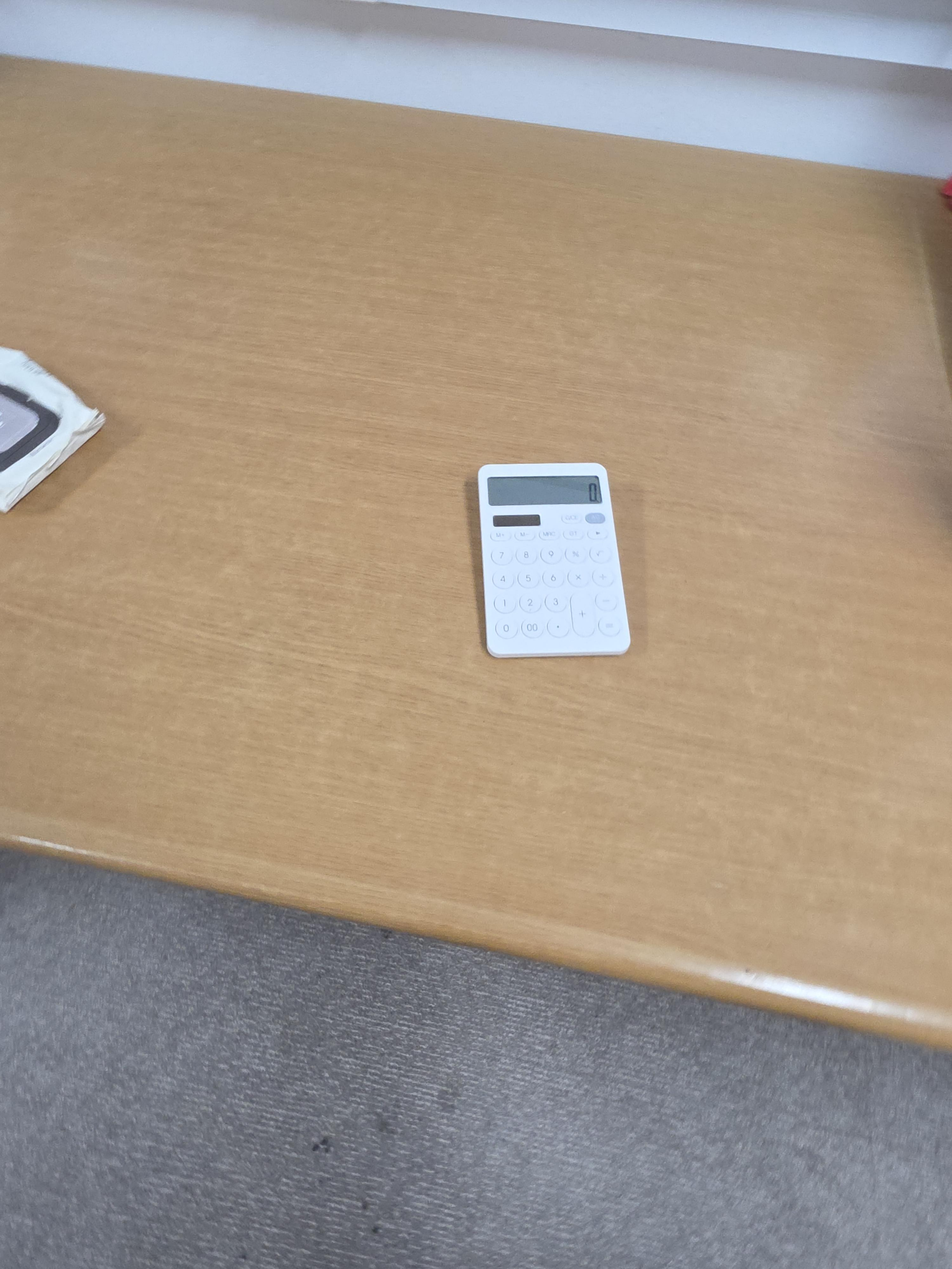calculator: (477, 462, 631, 659)
tissue: (0, 345, 107, 514)
